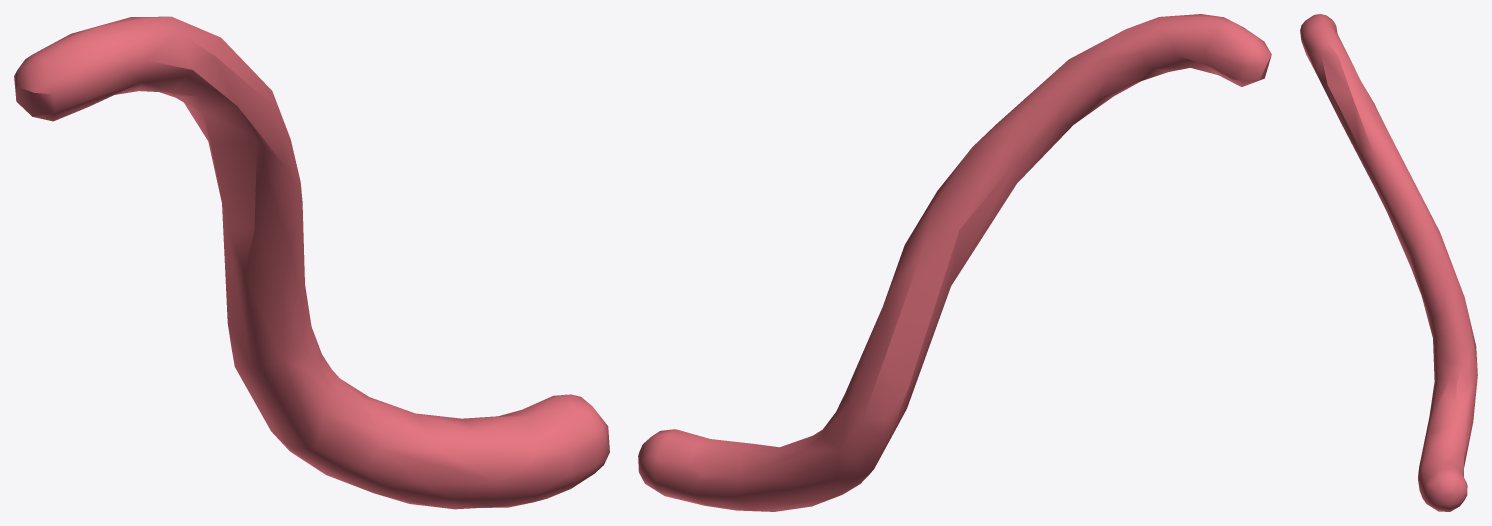
Rendered from fma50369_fj5171.glb.
3 views of the same model, side by side, from view 1: azimuth 30°, elevation 25°; view 2: azimuth 150°, elevation 25°; view 3: azimuth 270°, elevation 25° (orthographic). The views are drawn at different scales.
Visible parts, largest first — view 1: FMA50369_FJ5171; view 2: FMA50369_FJ5171; view 3: FMA50369_FJ5171.
Boxes of the visible parts, <box> form: FMA50369_FJ5171: <box>14,16,609,509</box>; FMA50369_FJ5171: <box>638,14,1271,511</box>; FMA50369_FJ5171: <box>1300,14,1477,511</box>.
Bounding box in the file's own units: 0.0174 × 0.0162 × 0.00753.
